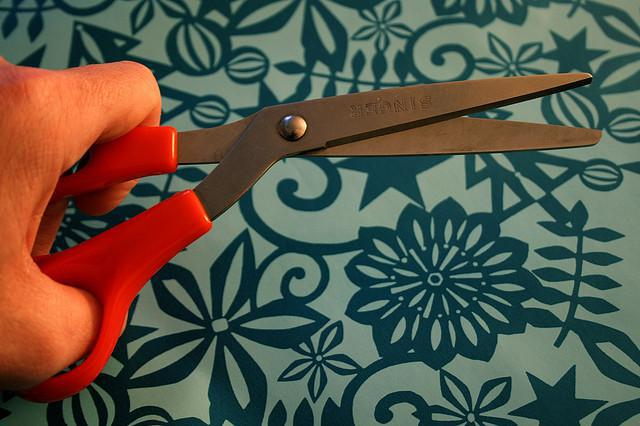hand: (1, 47, 173, 390)
